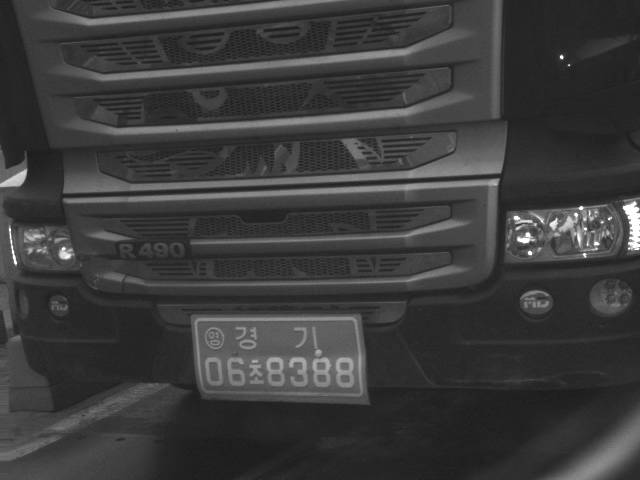car: (1, 1, 639, 405)
plate: (187, 312, 370, 405)
